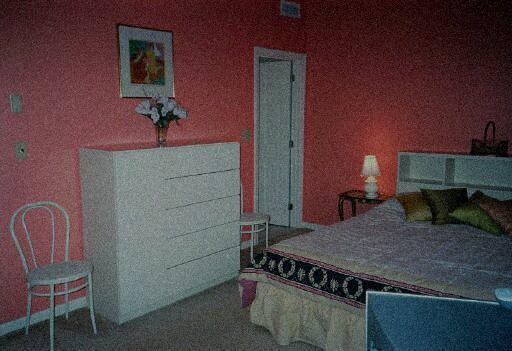Armario: (115, 157, 237, 286)
Puerta: (256, 52, 300, 223)
